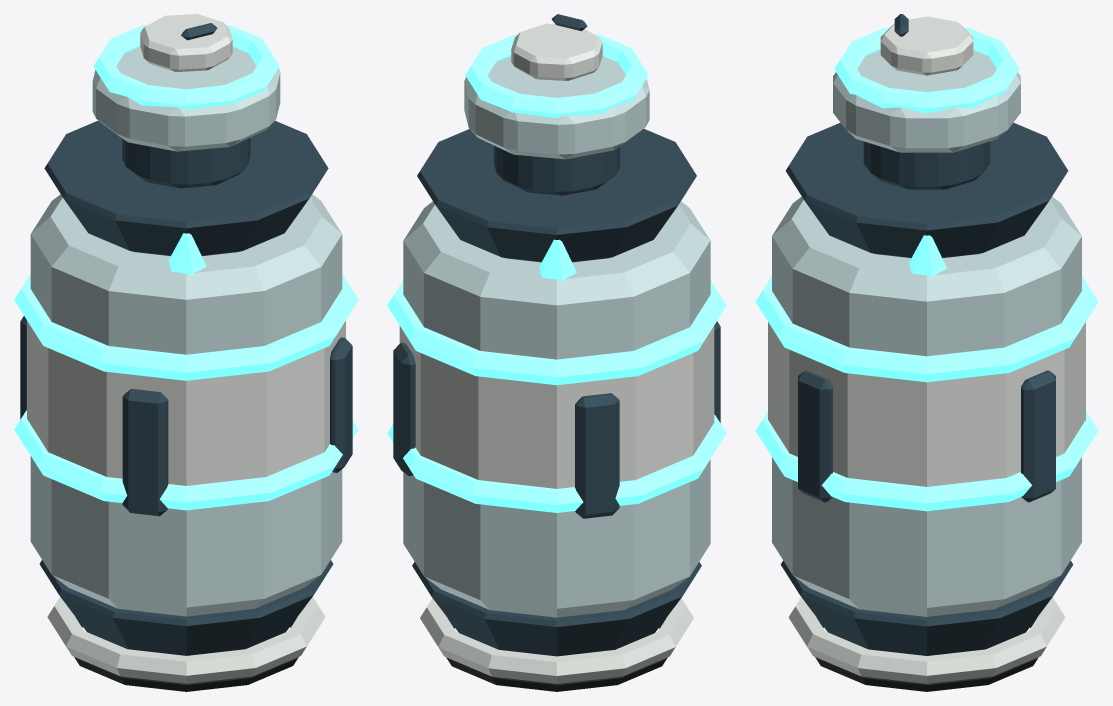
The model's file is FreezeBomb.fbx.
The picture shows the model from 3 angles, left to right: view 1: azimuth 30°, elevation 25°; view 2: azimuth 150°, elevation 25°; view 3: azimuth 270°, elevation 25°; orthographic projection.
Parts seen in each view (by area): view 1: MainCanister, WhiteFreezePanel, TopShoulder, WideCap, CyanRingTop, BottomCap, BottomRing, CyanRingBottom, CapCyanRing, CoolingRib_3, Neck, ValveBase (+4 smaller); view 2: MainCanister, WhiteFreezePanel, TopShoulder, WideCap, CyanRingTop, BottomCap, BottomRing, CyanRingBottom, CapCyanRing, CoolingRib_2, Neck, ValveBase (+4 smaller); view 3: MainCanister, WhiteFreezePanel, TopShoulder, WideCap, CyanRingTop, BottomCap, BottomRing, CyanRingBottom, CapCyanRing, Neck, ValveBase, CoolingRib_1 (+3 smaller).
Boxes of the visible parts, left/top/right/bottom form: MainCanister: left=30, top=194, right=342, bottom=616; WhiteFreezePanel: left=27, top=321, right=345, bottom=485; TopShoulder: left=44, top=120, right=328, bottom=255; WideCap: left=92, top=47, right=280, bottom=151; CyanRingTop: left=14, top=274, right=358, bottom=380; BottomCap: left=39, top=560, right=333, bottom=655; BottomRing: left=47, top=597, right=325, bottom=683; CyanRingBottom: left=14, top=410, right=358, bottom=510; CapCyanRing: left=93, top=24, right=279, bottom=109; CoolingRib_3: left=122, top=388, right=168, bottom=516; Neck: left=122, top=137, right=250, bottom=188; ValveBase: left=140, top=14, right=232, bottom=72; MainCanister: left=403, top=201, right=710, bottom=617; WhiteFreezePanel: left=399, top=326, right=714, bottom=488; TopShoulder: left=417, top=129, right=696, bottom=262; WideCap: left=464, top=56, right=649, bottom=159; CyanRingTop: left=387, top=280, right=726, bottom=385; BottomCap: left=412, top=562, right=701, bottom=656; BottomRing: left=420, top=598, right=693, bottom=683; CyanRingBottom: left=387, top=414, right=726, bottom=512; CapCyanRing: left=465, top=34, right=648, bottom=118; CoolingRib_2: left=575, top=393, right=619, bottom=518; Neck: left=494, top=145, right=619, bottom=195; ValveBase: left=511, top=23, right=602, bottom=80; MainCanister: left=772, top=196, right=1081, bottom=616; WhiteFreezePanel: left=768, top=322, right=1085, bottom=486; TopShoulder: left=785, top=122, right=1068, bottom=258; WideCap: left=833, top=50, right=1020, bottom=152; CyanRingTop: left=755, top=276, right=1098, bottom=382; BottomCap: left=780, top=560, right=1073, bottom=655; BottomRing: left=788, top=597, right=1065, bottom=683; CyanRingBottom: left=755, top=411, right=1098, bottom=511; CapCyanRing: left=834, top=27, right=1019, bottom=113; Neck: left=863, top=141, right=990, bottom=189; ValveBase: left=880, top=16, right=973, bottom=75; CoolingRib_1: left=1021, top=370, right=1055, bottom=502.
Size of the model in its own units: 135 by 269 by 135.
